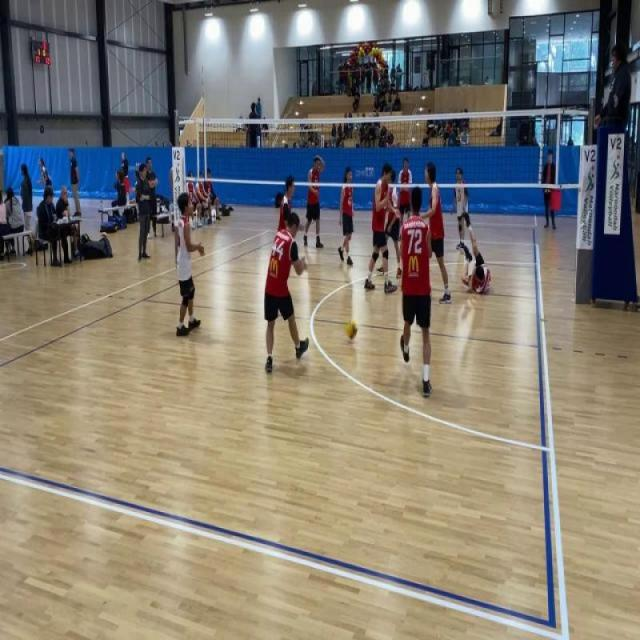volleyball: (345, 318, 358, 342), (101, 231, 108, 238)
